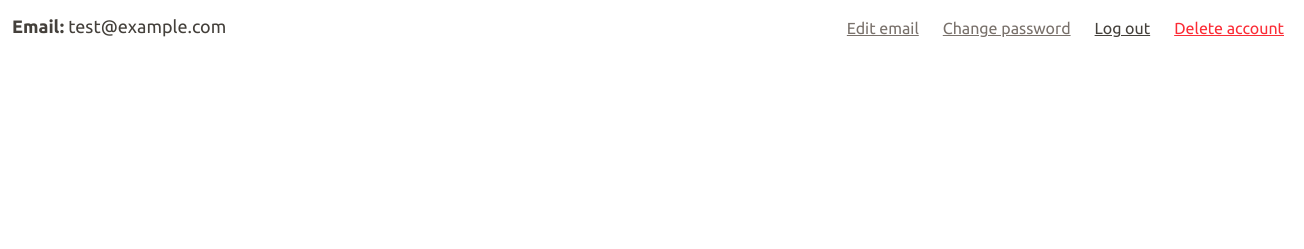
Test case: AccountView › clicking "Edit email" hides the action buttons and shows the email form
The image size is (1304, 249).
Click the button "Edit email" at (883, 28), box 839,12 -> 927,44
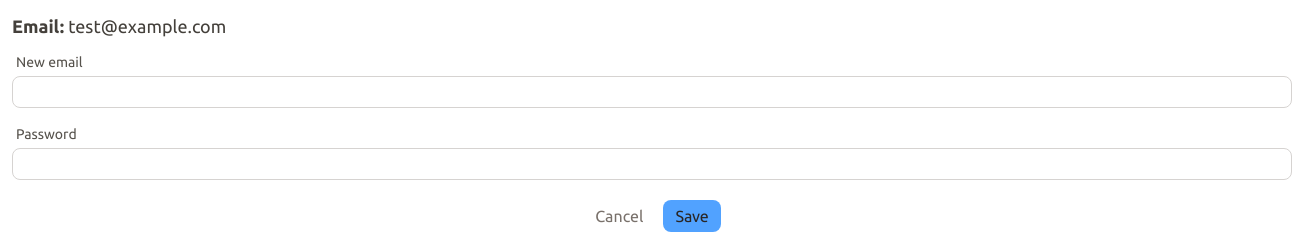
Now the button "Edit email" is gone
Now the button "Change password" is gone
Now the field labelled "New email" is shown, box 12,76 -> 1292,108
